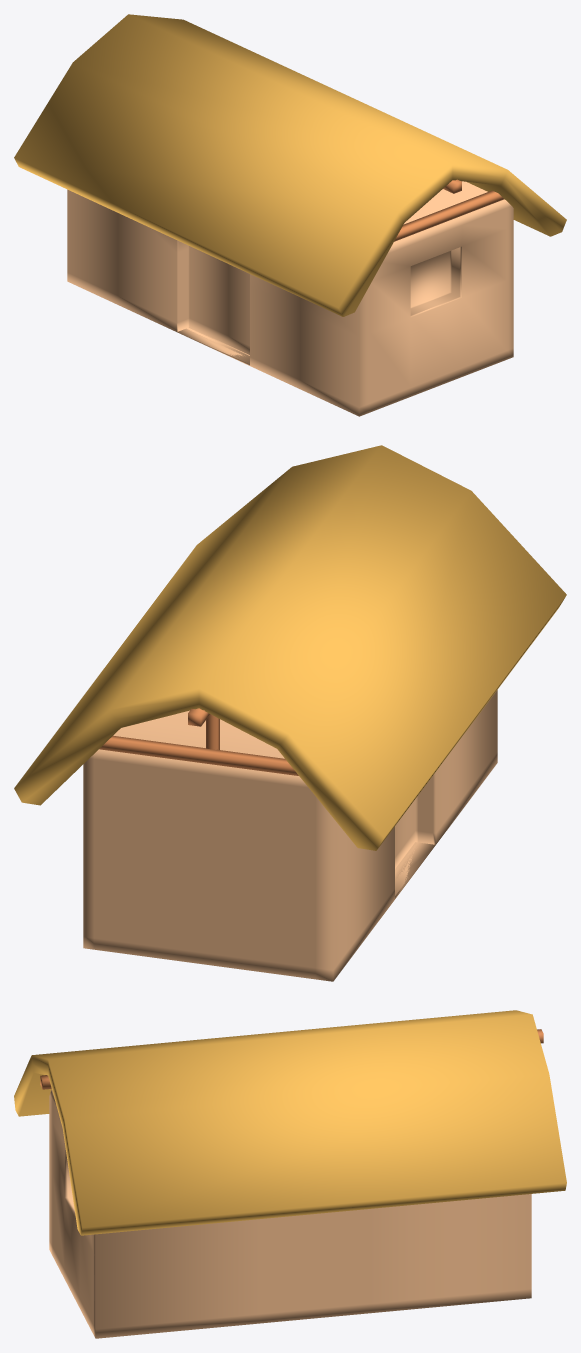
The model's file is House 1.fbx.
3 renders of one model, top to bottom at view 1: azimuth 30°, elevation 25°; view 2: azimuth 150°, elevation 25°; view 3: azimuth 270°, elevation 25°, orthographic. The views are drawn at different scales.
Parts seen in each view (by area): view 1: Cube.006; view 2: Cube.006; view 3: Cube.006.
Part boxes in pixels (x1,y1,x2,y2): Cube.006: [14, 14, 566, 416]; Cube.006: [14, 445, 566, 981]; Cube.006: [14, 1010, 566, 1338].
Size of the model in its own units: 374 by 234 by 495.
